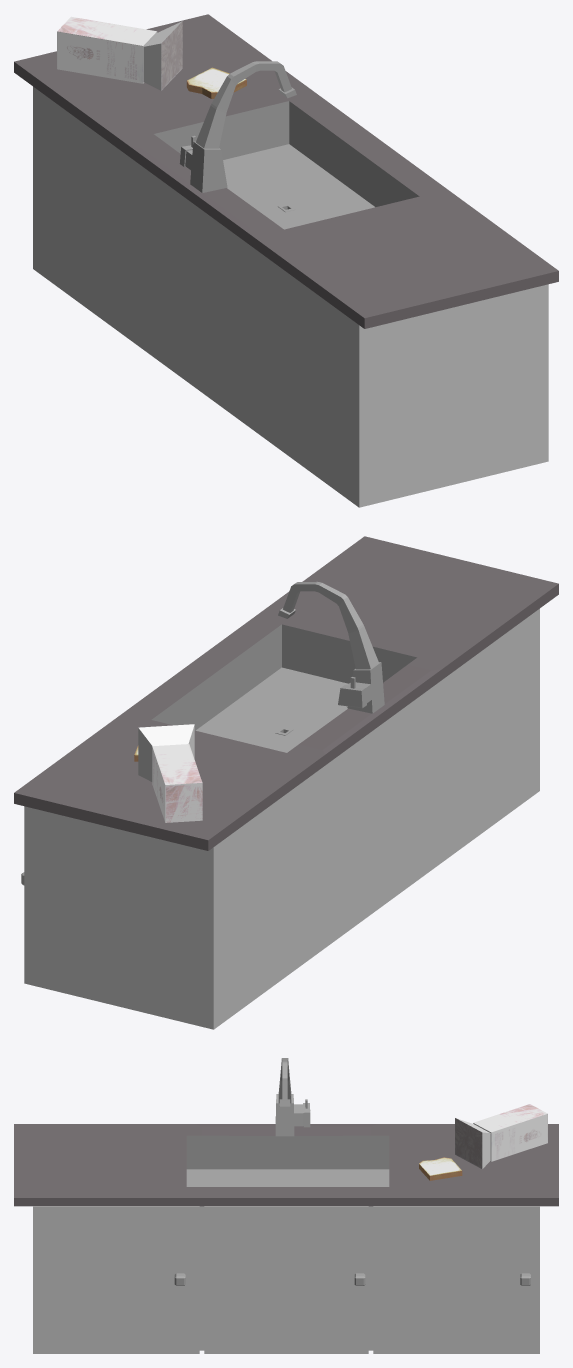
File: Pia.glb
3 views of the same model, one above another, from view 1: azimuth 30°, elevation 25°; view 2: azimuth 150°, elevation 25°; view 3: azimuth 270°, elevation 25° (orthographic). The views are drawn at different scales.
Visible parts, largest first — view 1: Sink-col, Bread_Bag, Bread; view 2: Sink-col, Bread_Bag; view 3: Sink-col, Bread_Bag, Bread.
Boxes of the visible parts, x1,y1,x2,y2 form: Sink-col: [14, 14, 558, 507]; Bread_Bag: [57, 16, 182, 90]; Bread: [186, 67, 246, 98]; Sink-col: [14, 536, 558, 1029]; Bread_Bag: [138, 724, 202, 822]; Sink-col: [14, 1058, 558, 1353]; Bread_Bag: [455, 1104, 547, 1169]; Bread: [419, 1157, 462, 1180].
Size of the model in its own units: 0.9117 by 1.32 by 2.69.
5 materials, 2 textured.
